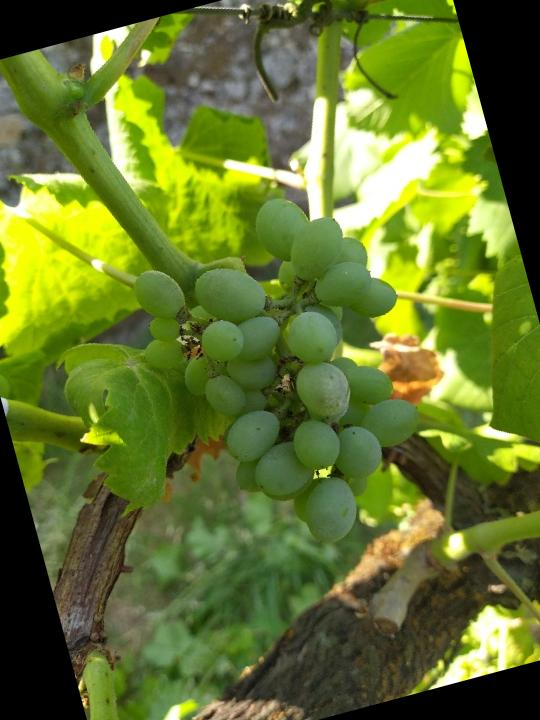grape: (112, 169, 459, 585)
